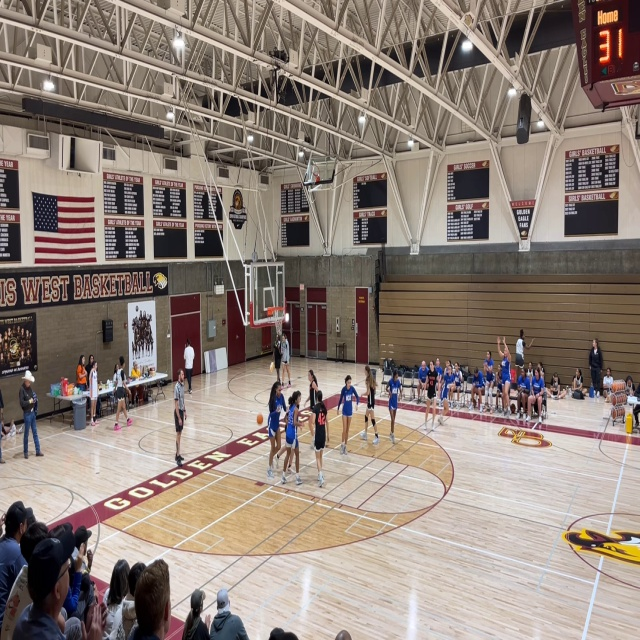Basketball: (256, 414, 263, 424)
